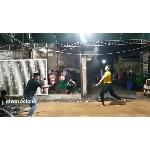Celurit: (49, 78, 66, 88)
